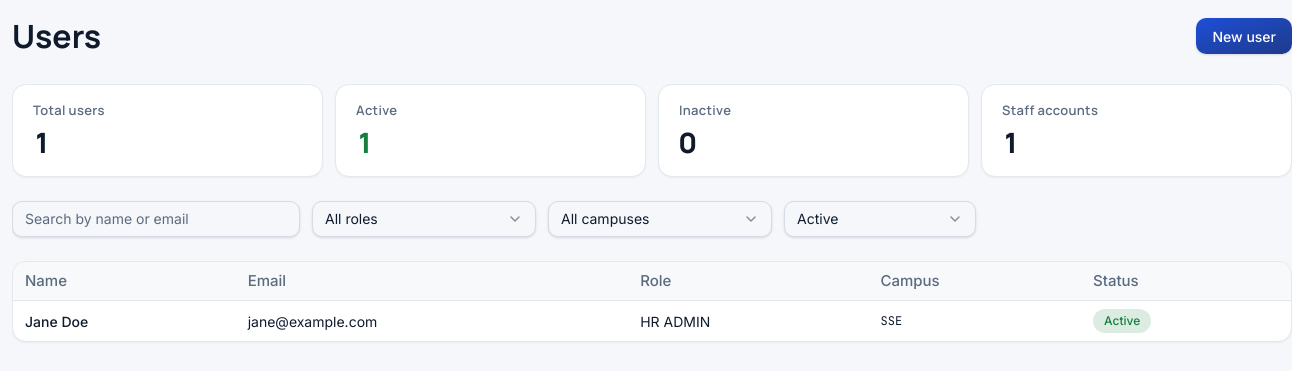
UsersListPage › narrows the list with the status filter
Expected: the link "Jane Doe" is shown, [25,312,88,330]
Expected: the text "John Smith" is not shown
Step 1. Click the dropdown named "Status filter" → (880, 218), box [784,200,976,236]
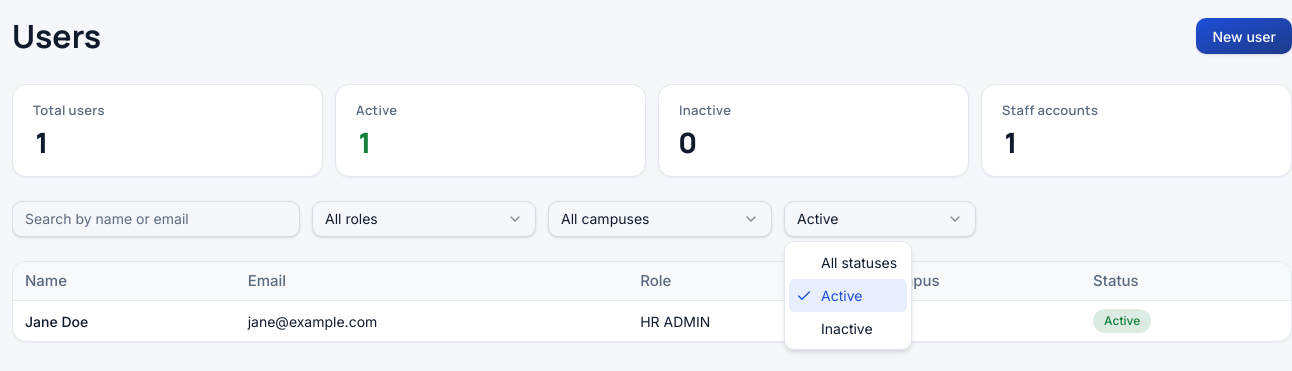
Step 2. Click the option "Inactive" → (847, 328), box [821,320,873,337]
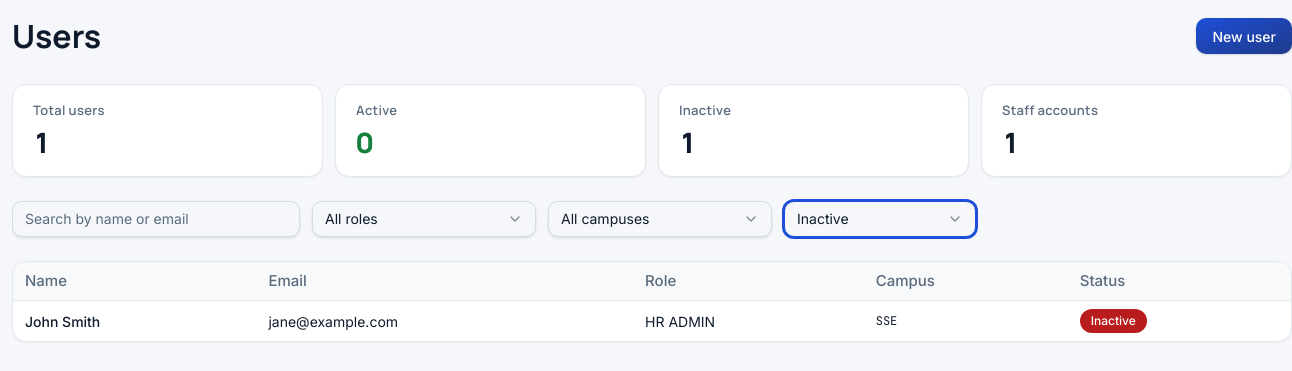
Expected: the link "Jane Doe" is gone
Expected: the link "John Smith" is shown, [25,312,100,330]
